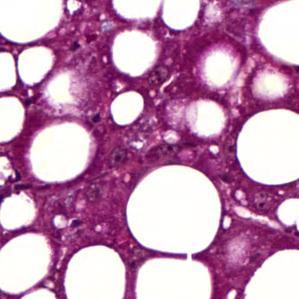steatosis: (128, 166, 224, 257), (29, 125, 95, 183), (109, 32, 160, 76), (111, 89, 146, 126)
